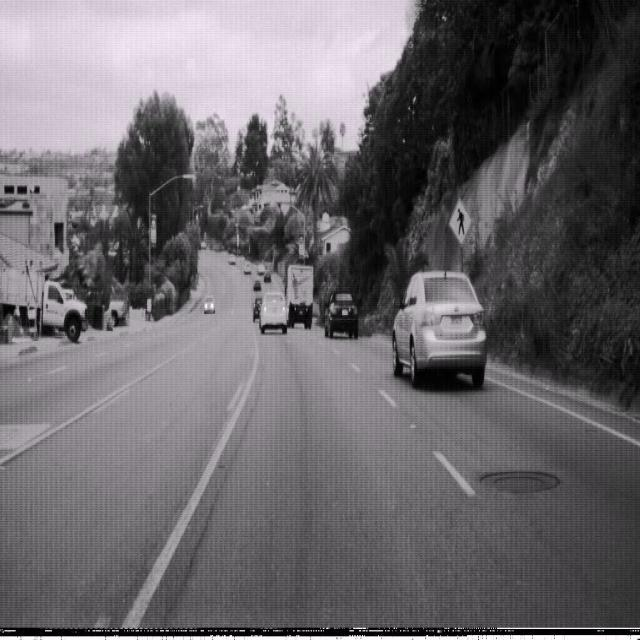pedestrianCrossing: (448, 195, 472, 245)
